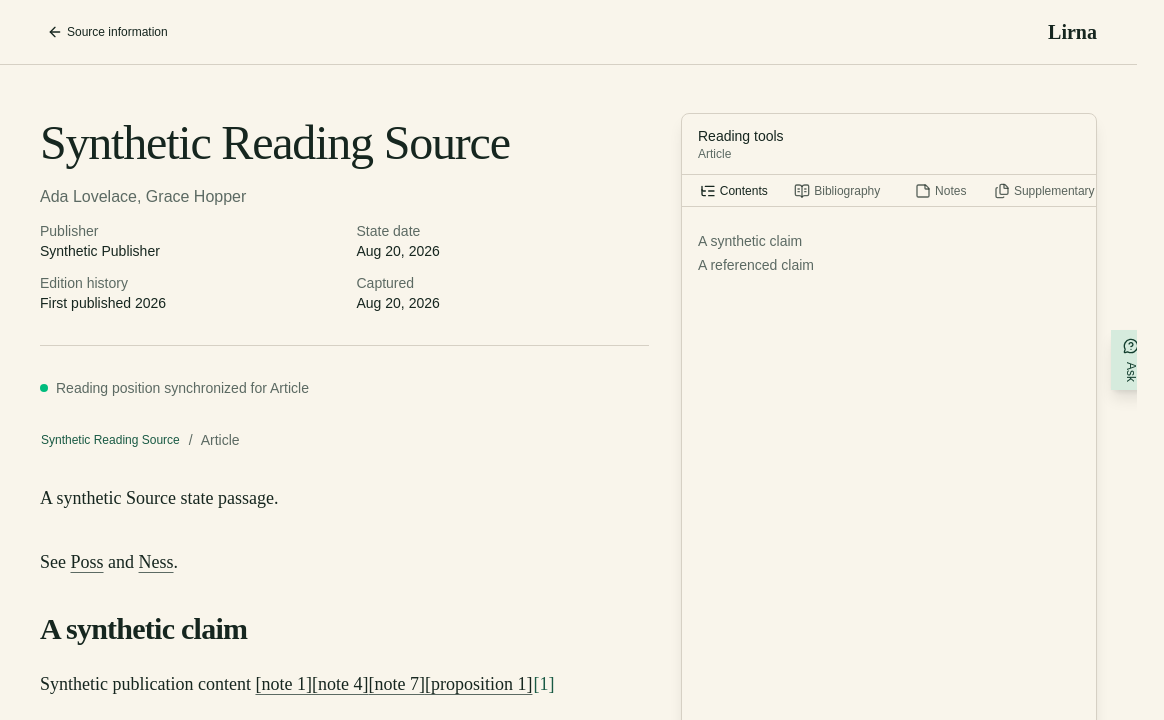
Test: sends a question through the server and shows the answer
The width and height of the screenshot is (1164, 720).
Expected: the text "A synthetic Source state passage." is shown, top-left (40, 488), bottom-right (278, 508)
Click the button with aria-label "Ask this Source": (1131, 360) top-left (1110, 329), bottom-right (1152, 391)
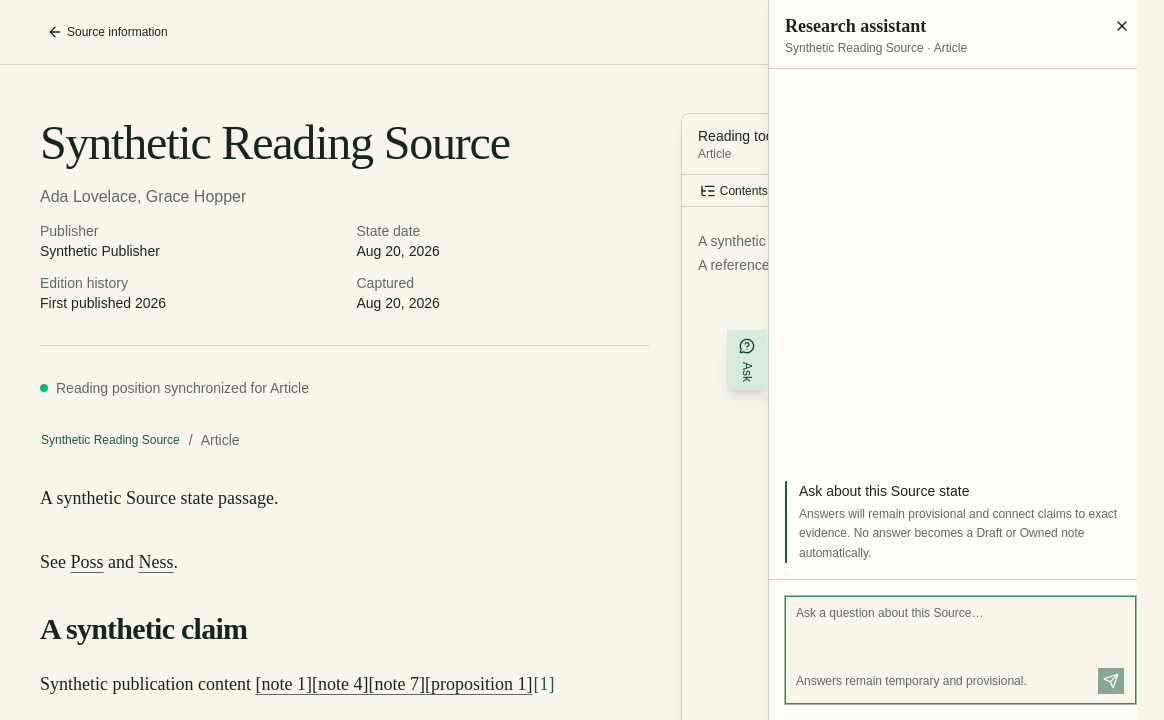
In the text box labelled "question": (960, 629) top-left (786, 597), bottom-right (1135, 661), type "What claim does this Source make?"
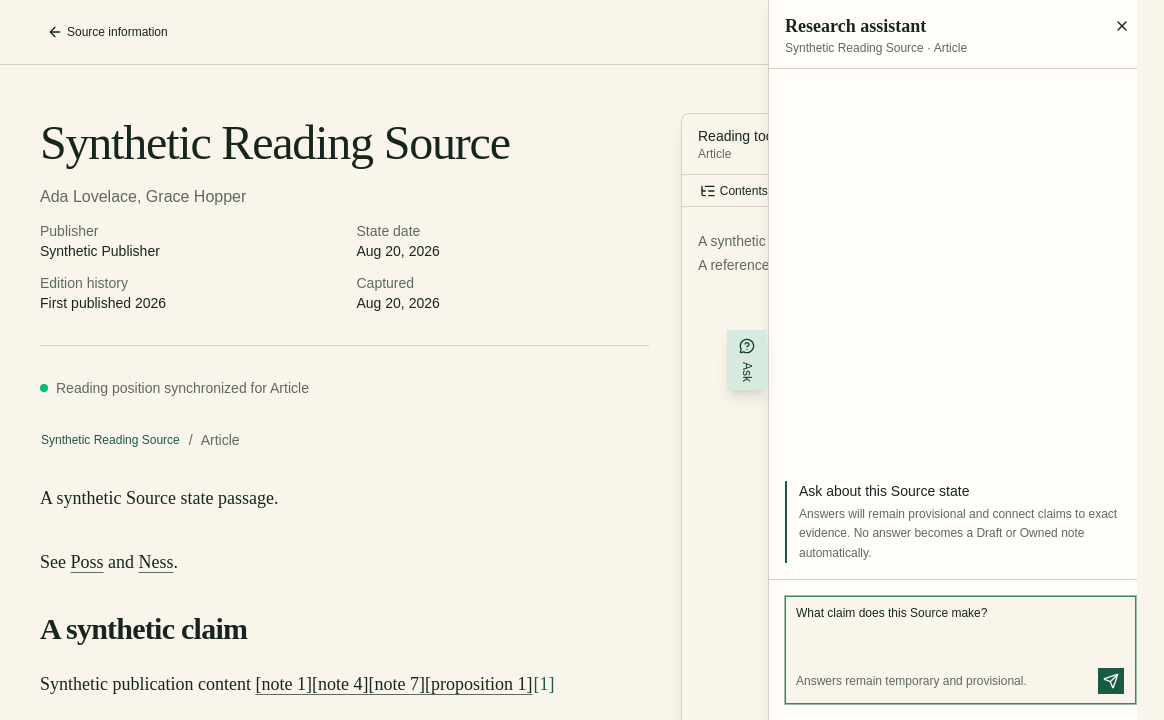
Click the button named "Send question": (1111, 681) top-left (1097, 667), bottom-right (1125, 695)
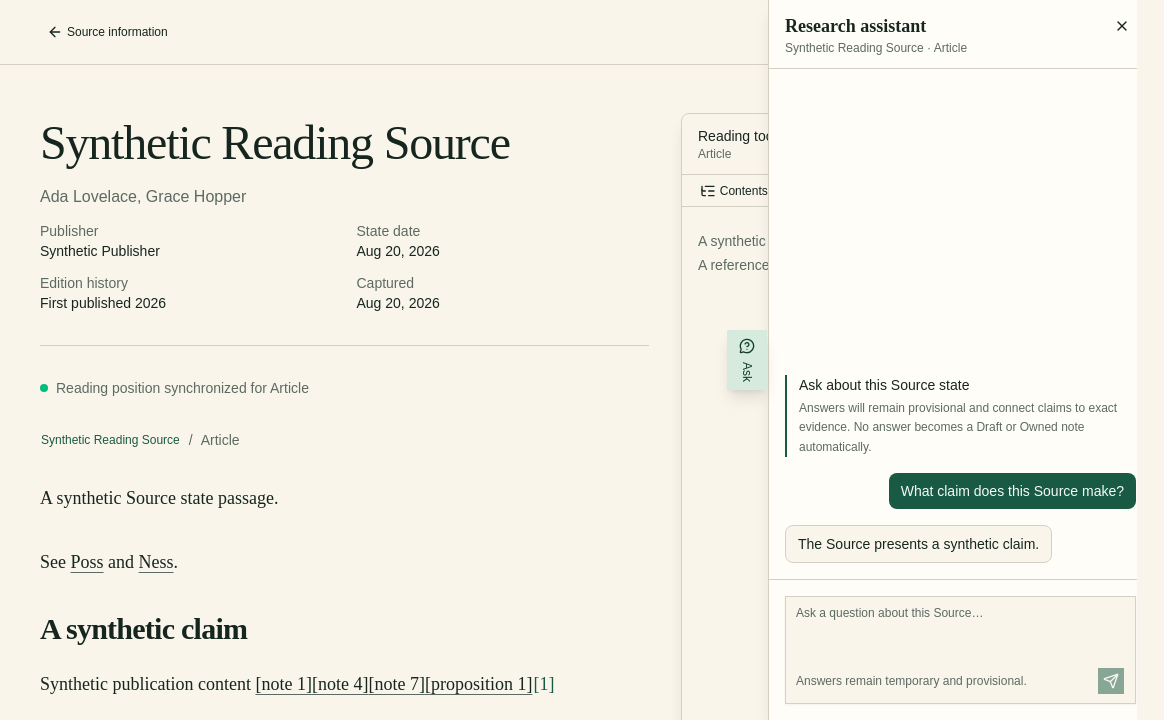
Now the text "The Source presents a synthetic claim." is shown, box top-left (785, 525), bottom-right (1052, 563)
